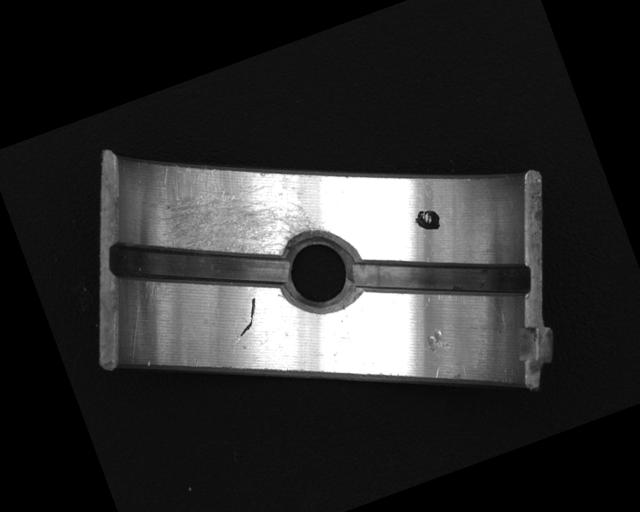blot: (411, 204, 443, 236)
bruise: (420, 325, 453, 358)
gap: (103, 190, 296, 338), (350, 208, 534, 344)
hole: (269, 221, 368, 321)
nick: (227, 294, 266, 338)
scratch: (138, 123, 326, 294)
